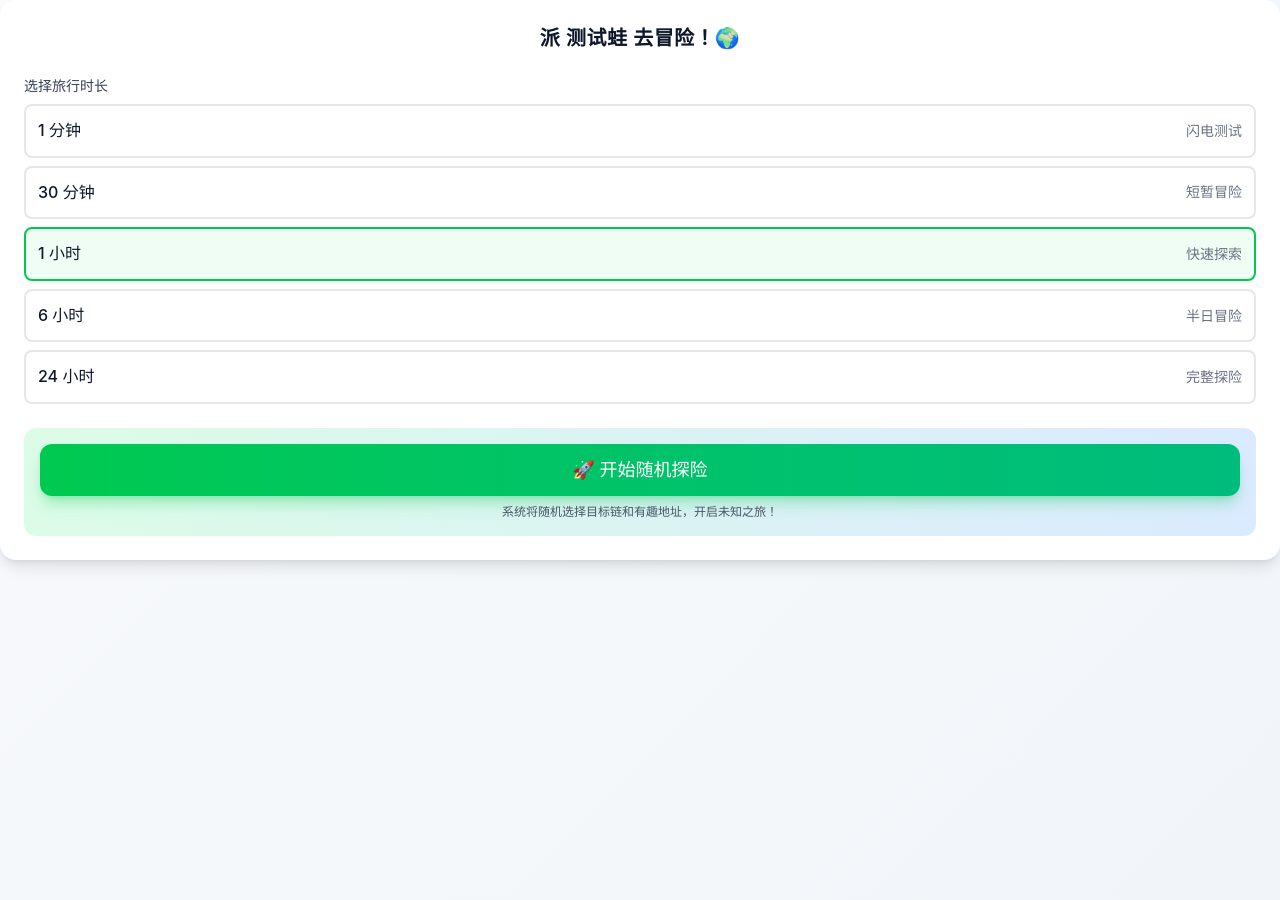
Test: TravelForm › starts a random local exploration with the expected contract args
This screenshot has width=1280, height=900.
Click the button "🚀 开始随机探险".
click(640, 470)  # box [40,444,1240,496]
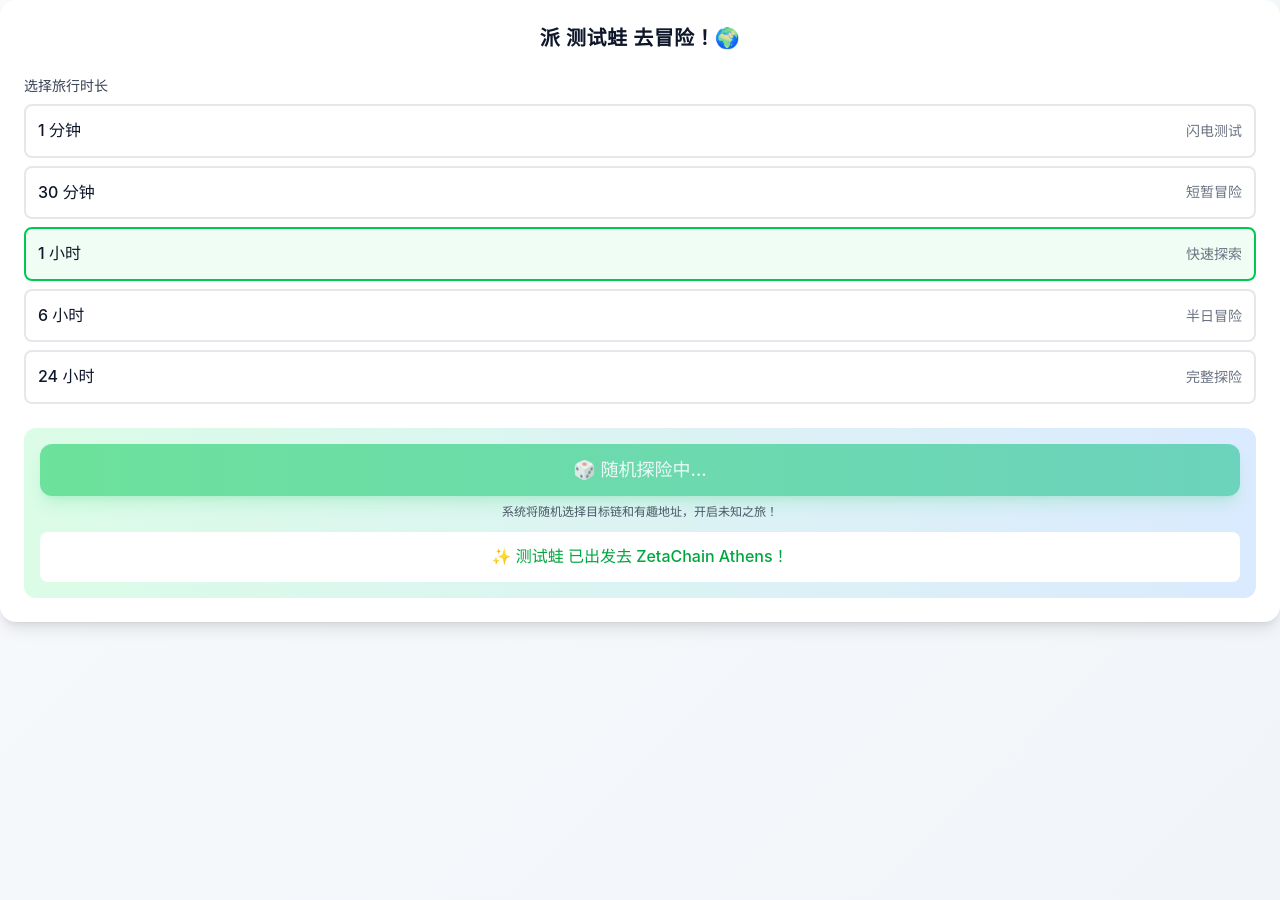
Now the text "✨ 测试蛙 已出发去 ZetaChain Athens！" is shown, box [491,546,789,566]
